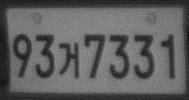1: (160, 33, 177, 80)
3: (33, 33, 56, 79), (132, 33, 155, 79), (108, 34, 130, 79)
7: (82, 33, 107, 81)
9: (11, 33, 34, 79)
거: (57, 41, 80, 80)
